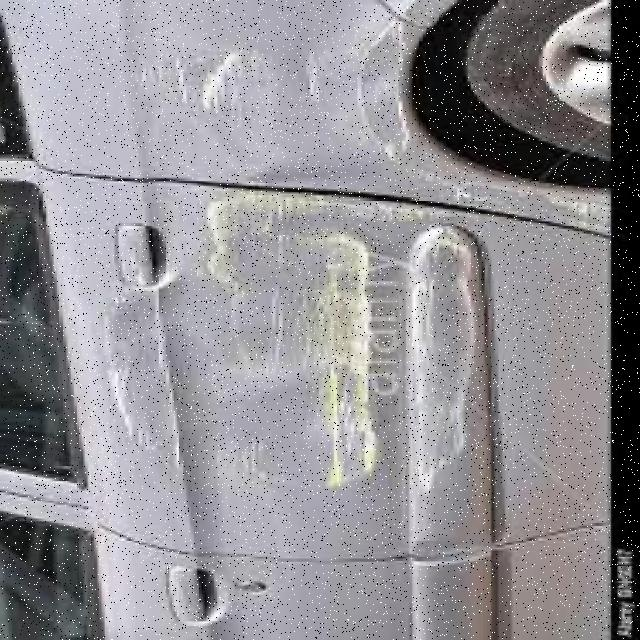damage: (95, 11, 615, 500)
